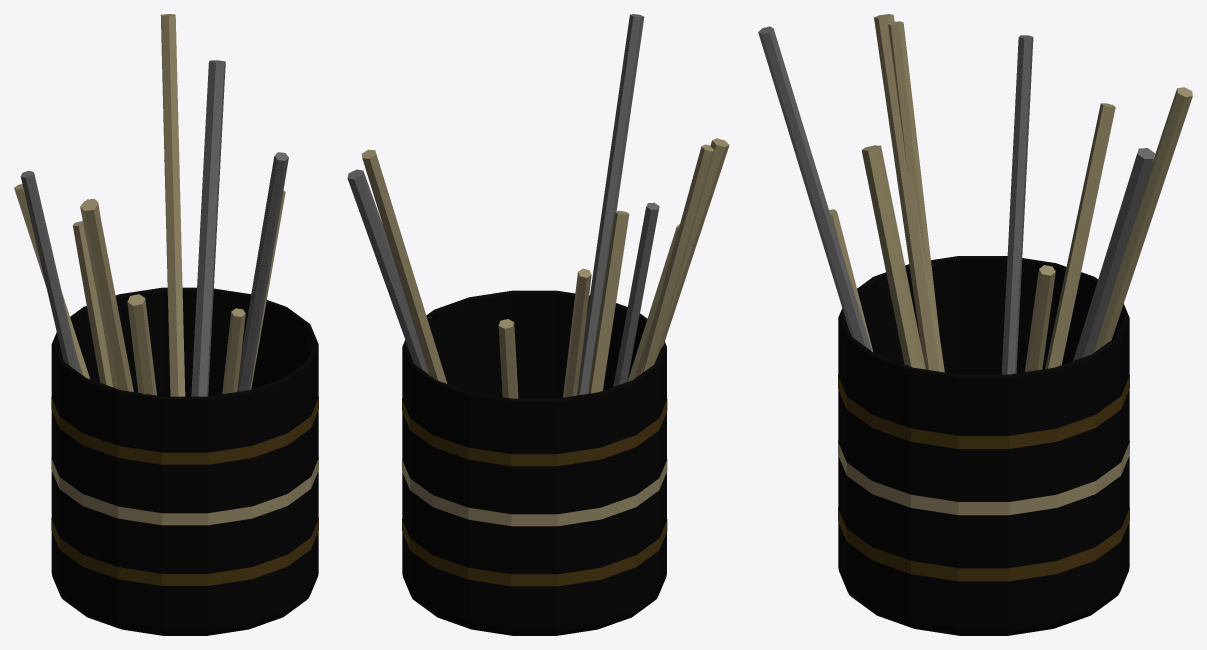
The model's file is pens.obj.
The picture shows the model from 3 angles, left to right: view 1: azimuth 30°, elevation 25°; view 2: azimuth 150°, elevation 25°; view 3: azimuth 270°, elevation 25°; orthographic projection. The views are drawn at different scales.
Parts seen in each view (by area): view 1: Mesh03, Object02, Object01; view 2: Mesh03, Object02, Object01; view 3: Mesh03, Object02, Object01.
Part boxes in pixels (x1,y1,x2,y2): Mesh03: [14, 14, 318, 635]; Object02: [20, 60, 288, 396]; Object01: [51, 397, 318, 585]; Mesh03: [361, 138, 729, 635]; Object02: [347, 14, 659, 395]; Object01: [402, 399, 667, 586]; Mesh03: [829, 14, 1192, 635]; Object02: [758, 26, 1154, 374]; Object01: [838, 375, 1129, 581].
Size of the model in its own units: 1.19 by 2.08 by 1.49.
